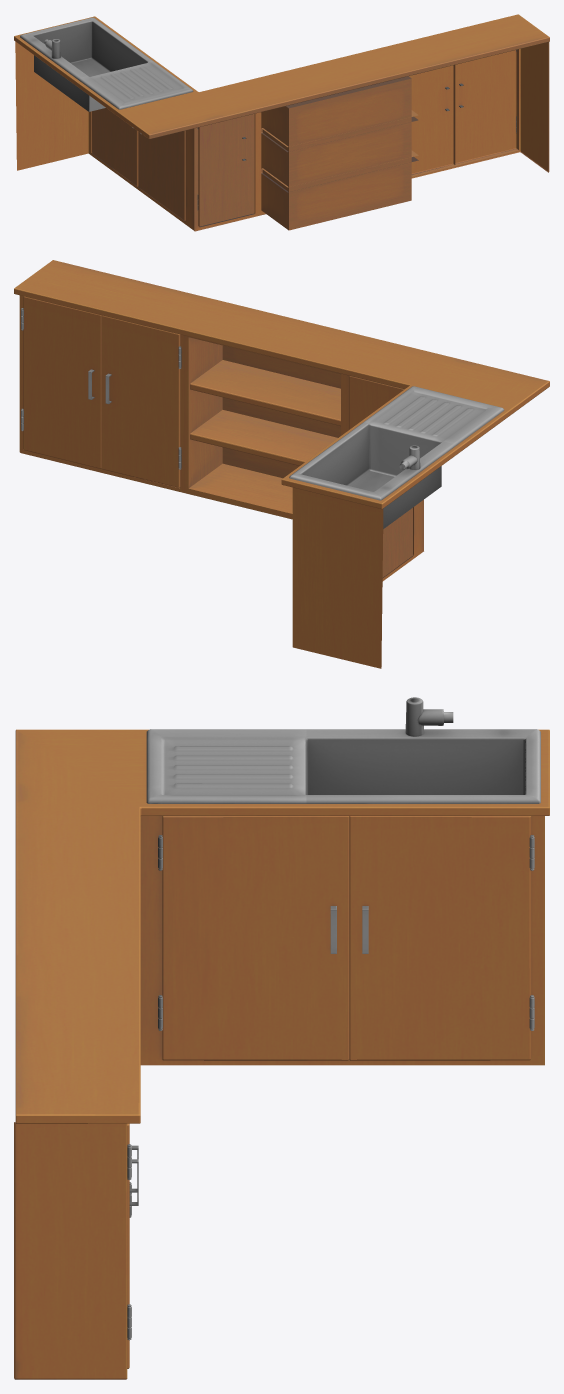
File: JapaneseRestaurant_SinkA.fbx
3 views of the same model, one above another, from view 1: azimuth 30°, elevation 25°; view 2: azimuth 150°, elevation 25°; view 3: azimuth 270°, elevation 25° (orthographic). The views are drawn at different scales.
Visible parts, largest first — view 1: JapaneseRestaurant_SinkA; view 2: JapaneseRestaurant_SinkA; view 3: JapaneseRestaurant_SinkA.
Boxes of the visible parts, x1,y1,x2,y2 form: JapaneseRestaurant_SinkA: (14,14,549,231); JapaneseRestaurant_SinkA: (14,260,549,668); JapaneseRestaurant_SinkA: (14,697,549,1379).
Bounding box in the file's own units: 236 × 86.44 × 139.
